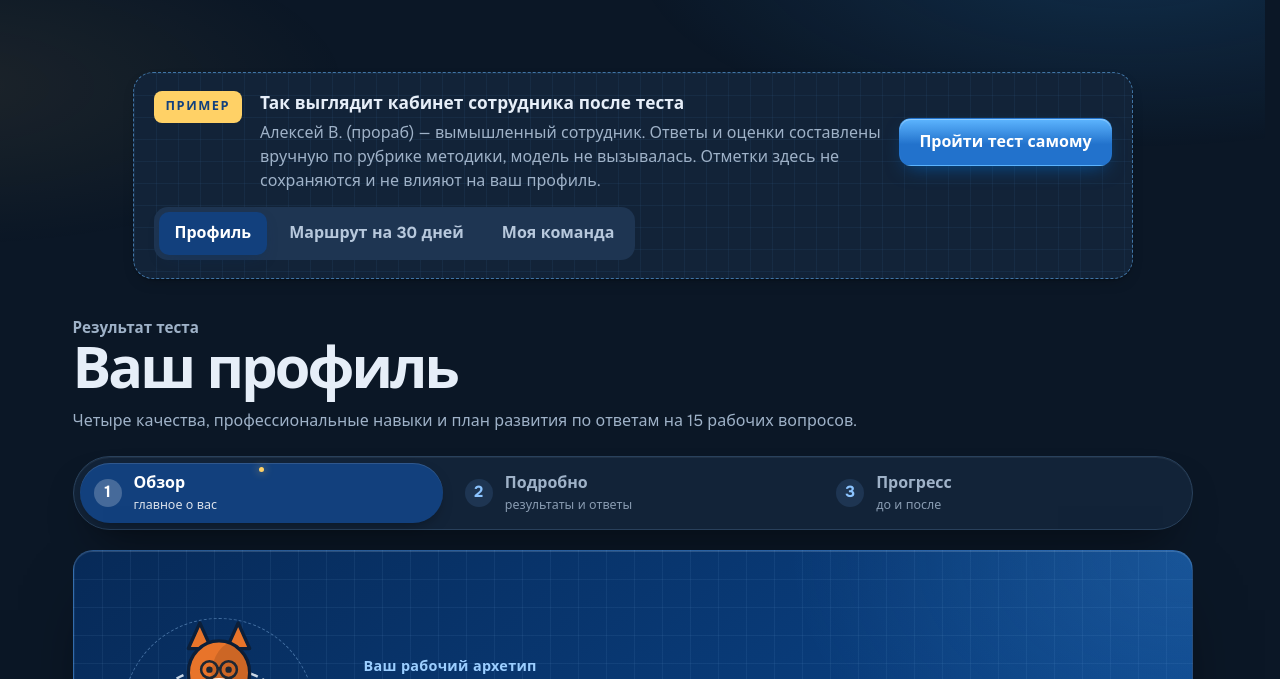
Test: пример кабинета сотрудника по действующей методике › показывает профиль сотрудника, как его видит сам сотрудник, без смены аватара и выгрузки
The width and height of the screenshot is (1280, 679).
Expected: the element named "Пример с вымышленными ответами" shows "Алексей В. (прораб) — вымышленный сотрудник", x1=260 y1=122 x2=881 y2=191
Expected: the heading "Ваш профиль" is shown, x1=72 y1=340 x2=457 y2=399
Click the tab "2 Подробно результаты и ответы": coordinates (546, 482) x1=451 y1=463 x2=814 y2=523
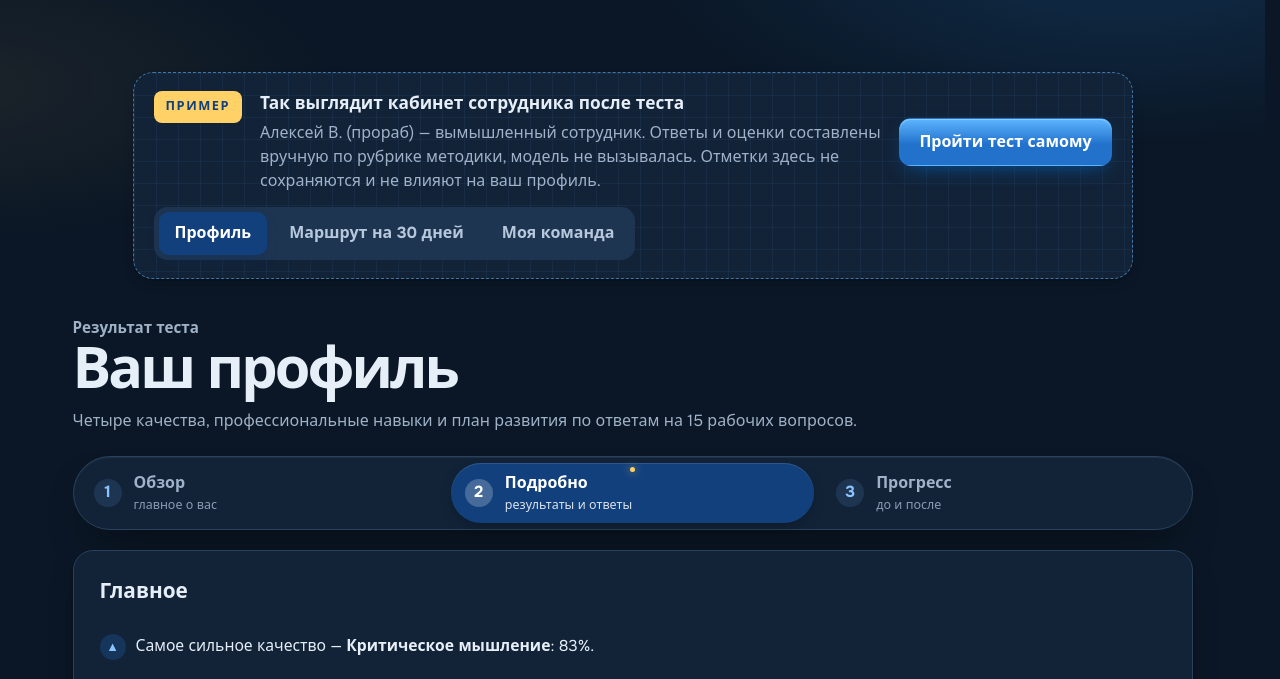
Now the text "Самое сильное качество —" is shown, box x1=136 y1=636 x2=342 y2=656
